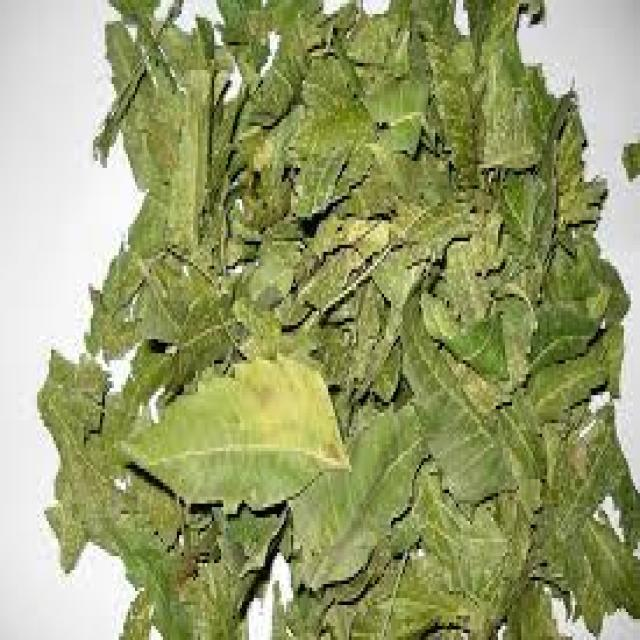Neem-Tree: (72, 21, 638, 640)
